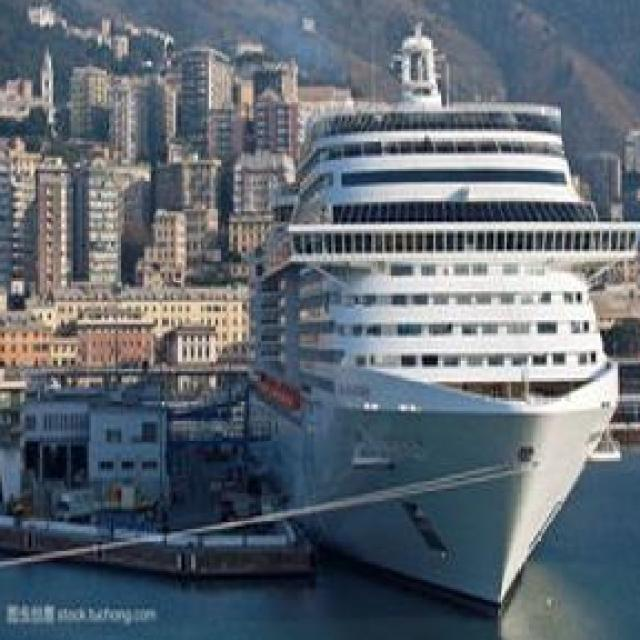passenger ship: (245, 23, 625, 619)
